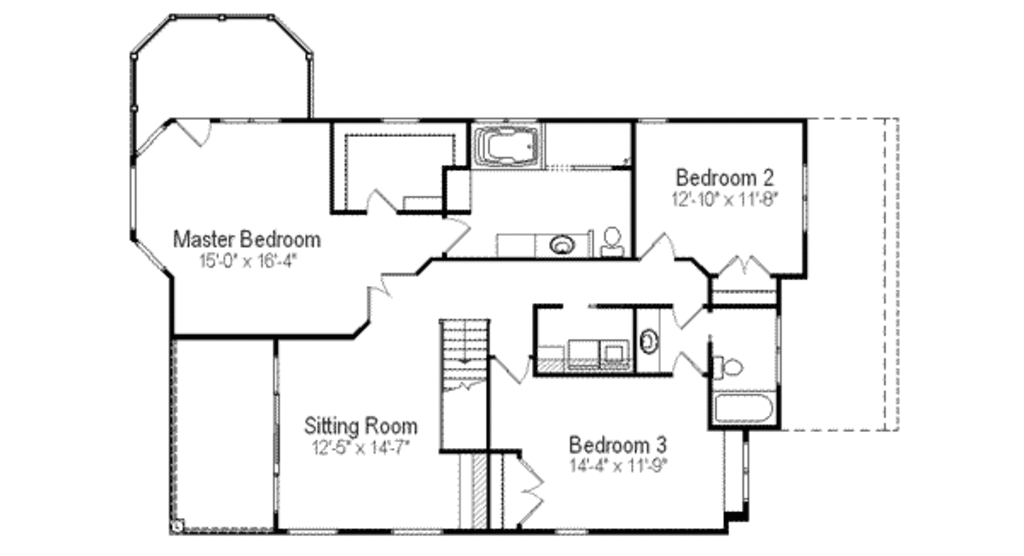door: (499, 450, 547, 529), (356, 269, 417, 323), (488, 347, 535, 387), (172, 113, 214, 149), (639, 232, 680, 266), (667, 348, 706, 383), (665, 299, 704, 330), (360, 186, 398, 217), (443, 217, 471, 254)
large_sink: (597, 221, 627, 263), (713, 353, 749, 385)
small_sink: (634, 306, 659, 377), (535, 233, 595, 261)
stairs: (441, 312, 495, 449)
tub: (468, 122, 548, 174), (709, 387, 780, 425)
window: (127, 161, 141, 241), (799, 164, 812, 234), (283, 522, 336, 538), (392, 523, 447, 538), (379, 113, 432, 125), (221, 117, 280, 126)
